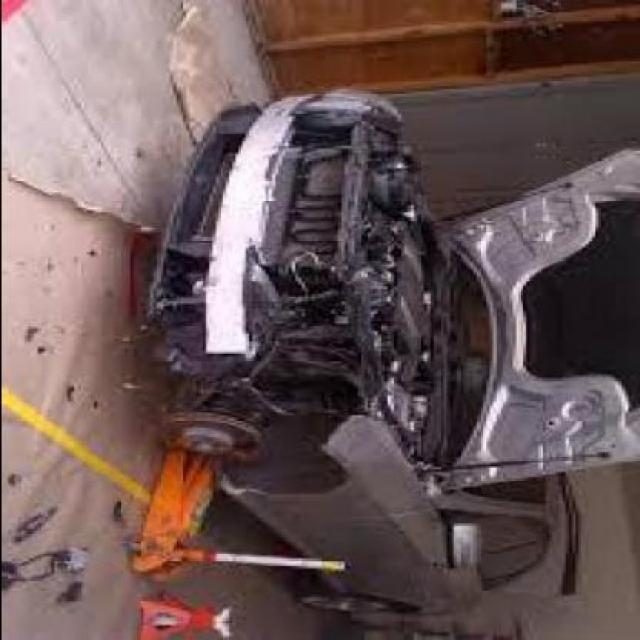damage: (147, 104, 434, 494)
